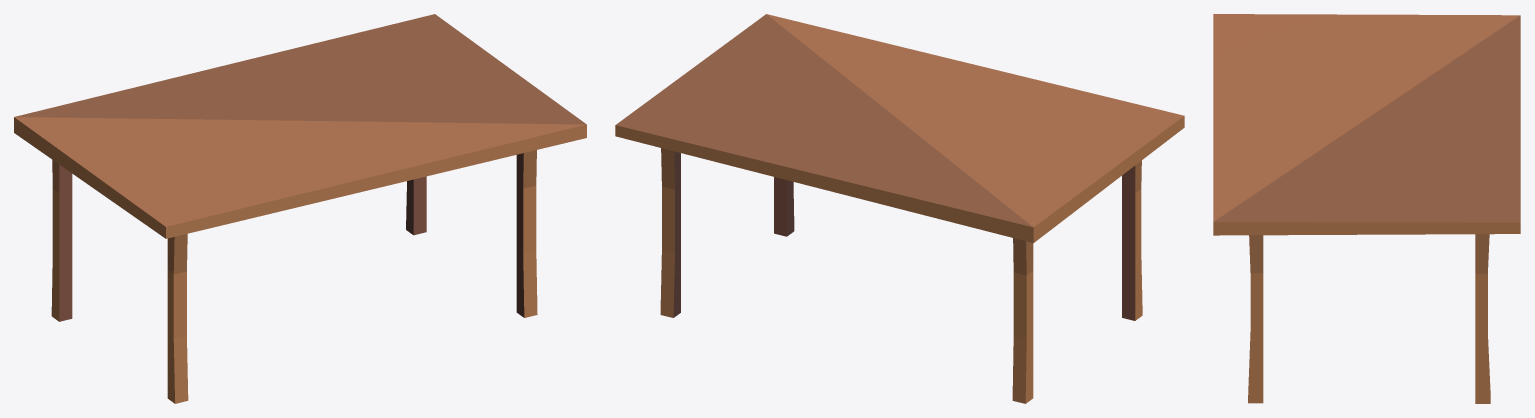
File: desk.fbx
3 renders of one model, left to right at view 1: azimuth 30°, elevation 25°; view 2: azimuth 150°, elevation 25°; view 3: azimuth 270°, elevation 25°, orthographic.
Parts seen in each view (by area): view 1: pCube7; view 2: pCube7; view 3: pCube7.
Boxes of the visible parts, x1=… form: pCube7: x1=14, y1=14, x2=586, y2=403; pCube7: x1=615, y1=14, x2=1184, y2=403; pCube7: x1=1213, y1=14, x2=1520, y2=403.
Size of the model in its own units: 160 by 70.94 by 100.
